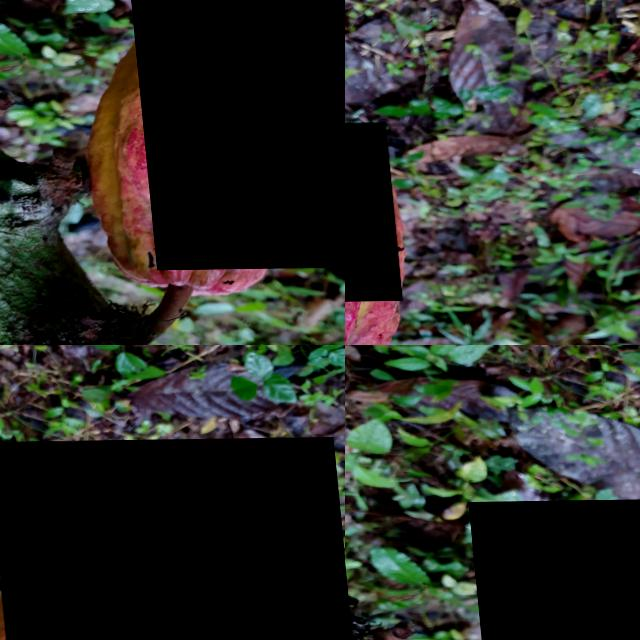Fitoftora: (0, 438, 345, 640)
Monilia: (345, 123, 394, 302)
Sana: (119, 0, 345, 270), (464, 499, 640, 640)
